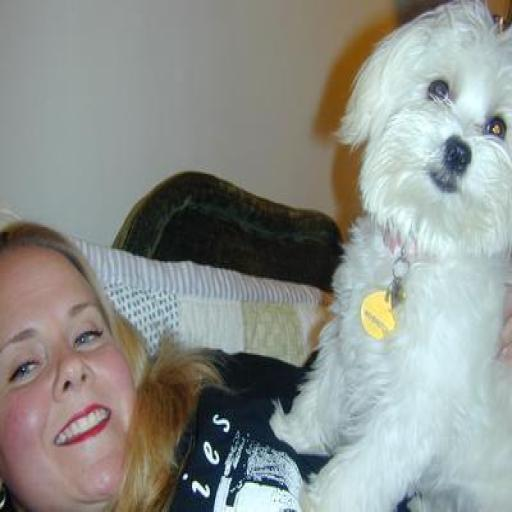dog_face: (327, 4, 512, 246)
